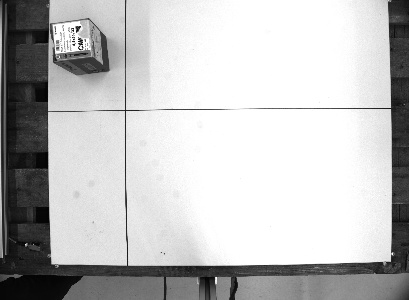b4: (47, 17, 111, 76)
